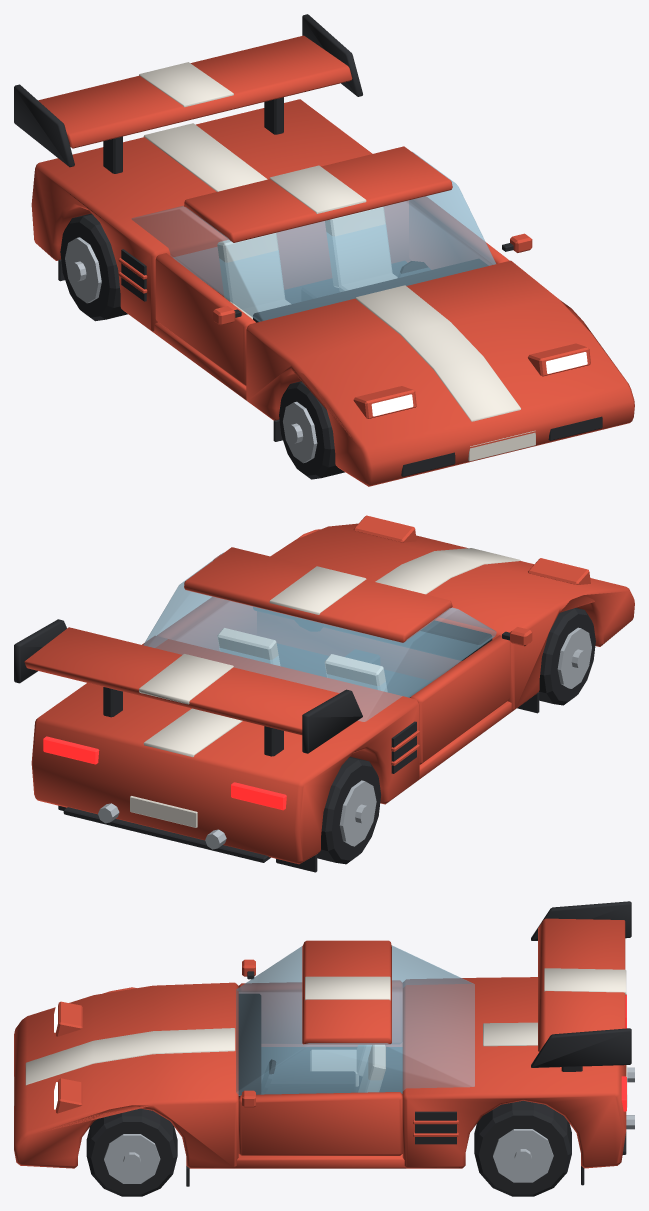
File: red-wedge-sports-car.glb
3 views of the same model, one above another, from view 1: azimuth 30°, elevation 25°; view 2: azimuth 150°, elevation 25°; view 3: azimuth 270°, elevation 25° (orthographic). The views are drawn at different scales.
Parts seen in each view (by area): view 1: Body_Front, Body_Rear, Glasshouse, Wing, Roof, Stripe_Hood, Door_R, Door_L, Seat_Driver_Back, Seat_Passenger_Back, Stripe_Deck, Wheel_RR (+17 smaller); view 2: Body_Rear, Body_Front, Glasshouse, Wing, Roof, Door_R, Wheel_RR, Stripe_Hood, Door_L, Wheel_FR, Stripe_Wing, Dashboard (+19 smaller); view 3: Body_Front, Body_Rear, Glasshouse, Door_L, Wing, Roof, Wheel_RL, Stripe_Hood, Wheel_FL, Door_R, WingEnd_1, Body_Sill (+14 smaller).
Part boxes in pixels (<box>): Body_Front: <box>246,260,634,486</box>; Body_Rear: <box>31,99,410,332</box>; Glasshouse: <box>131,151,496,321</box>; Wing: <box>38,35,352,148</box>; Roof: <box>184,146,452,242</box>; Stripe_Hood: <box>355,285,520,421</box>; Door_R: <box>155,253,255,385</box>; Door_L: <box>409,196,509,269</box>; Seat_Driver_Back: <box>325,207,392,287</box>; Seat_Passenger_Back: <box>217,233,284,309</box>; Stripe_Deck: <box>143,123,267,191</box>; Wheel_RR: <box>60,213,127,321</box>; Body_Rear: <box>31,636,419,864</box>; Body_Front: <box>257,523,634,711</box>; Glasshouse: <box>143,552,496,721</box>; Wing: <box>24,627,339,734</box>; Roof: <box>184,547,452,642</box>; Door_R: <box>410,635,510,764</box>; Wheel_RR: <box>317,756,380,864</box>; Stripe_Hood: <box>375,548,520,594</box>; Door_L: <box>157,597,256,650</box>; Wheel_FR: <box>539,607,595,705</box>; Stripe_Wing: <box>139,654,233,704</box>; Dashboard: <box>253,607,492,660</box>; Body_Front: <box>14,982,238,1168</box>; Body_Rear: <box>402,977,626,1168</box>; Glasshouse: <box>236,945,474,1095</box>; Door_L: <box>238,1092,402,1155</box>; Wing: <box>538,918,625,1051</box>; Roof: <box>302,940,391,1044</box>; Wheel_RL: <box>474,1100,571,1196</box>; Stripe_Hood: <box>25,1028,235,1085</box>; Wheel_FL: <box>86,1108,177,1196</box>; Door_R: <box>238,980,402,1044</box>; WingEnd_1: <box>531,1028,631,1067</box>; Body_Sill: <box>235,1043,406,1168</box>.
Bounding box in the file's own units: 9.36 × 5.46 × 17.78.
